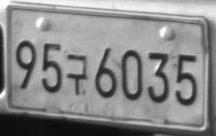0: (120, 48, 143, 100)
3: (147, 51, 170, 103)
5: (174, 54, 198, 106), (40, 42, 62, 93)
6: (93, 47, 117, 99)
9: (15, 39, 37, 89)
구: (65, 53, 88, 95)
